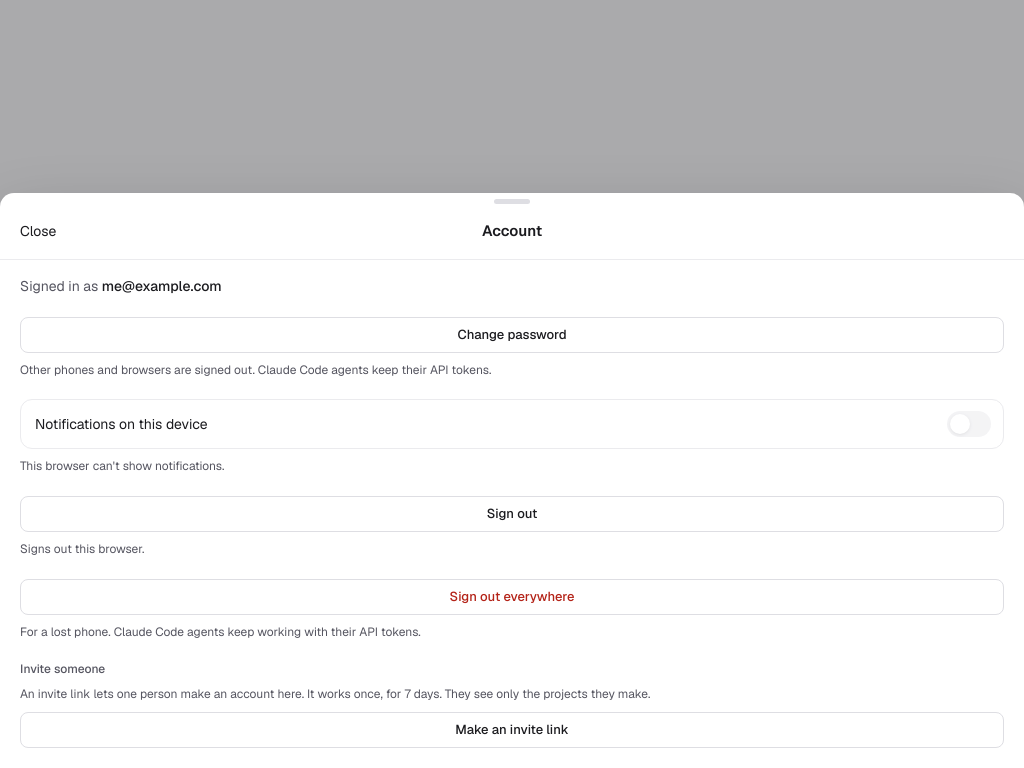
Test: AccountSheet › asks before signing out everywhere, and can be talked out of it
This screenshot has width=1024, height=768.
Click the button "Sign out everywhere" at (512, 597), box top-left (20, 579), bottom-right (1004, 615)
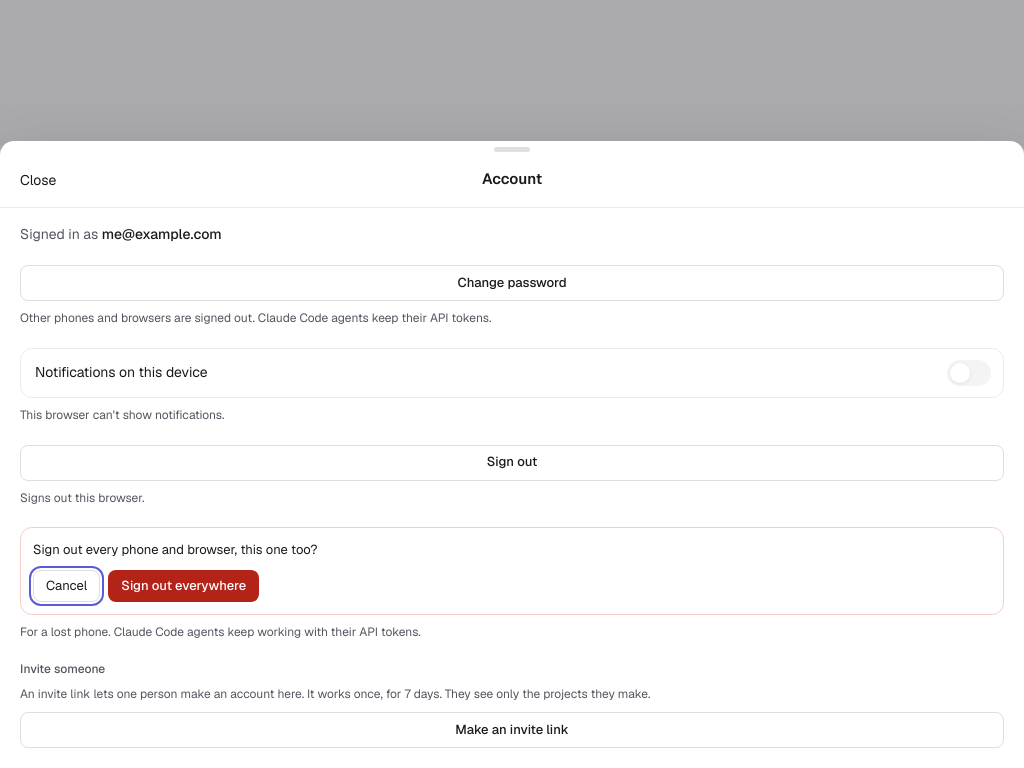
Click the button "Cancel" at (67, 586), box top-left (33, 570), bottom-right (100, 602)
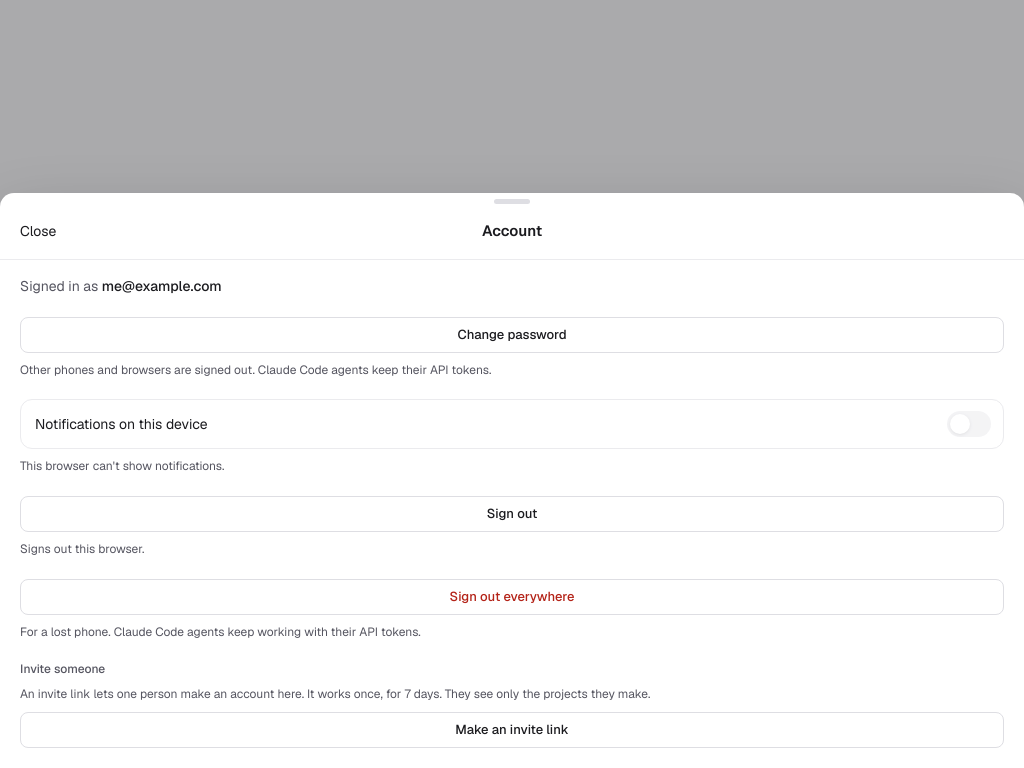
Check: the text "keep working with their API tokens" is shown, box top-left (20, 624), bottom-right (421, 640)
Check: the message "Sign out every phone and browser, this one too? Cancel Sign out everywhere" is gone
